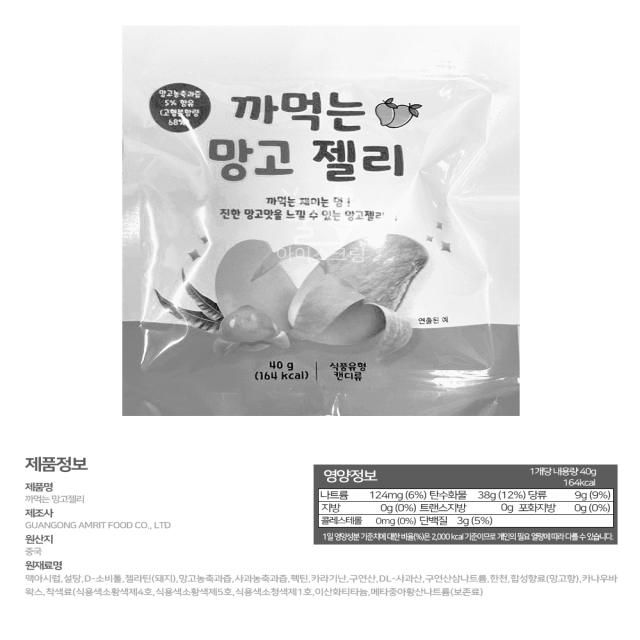Nutrition Label: (312, 460, 635, 554)
